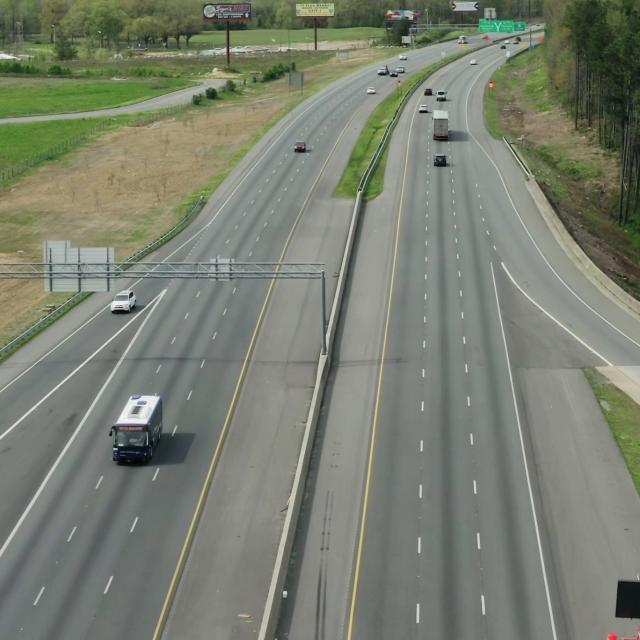Car: (105, 389, 167, 464), (110, 284, 136, 316)
